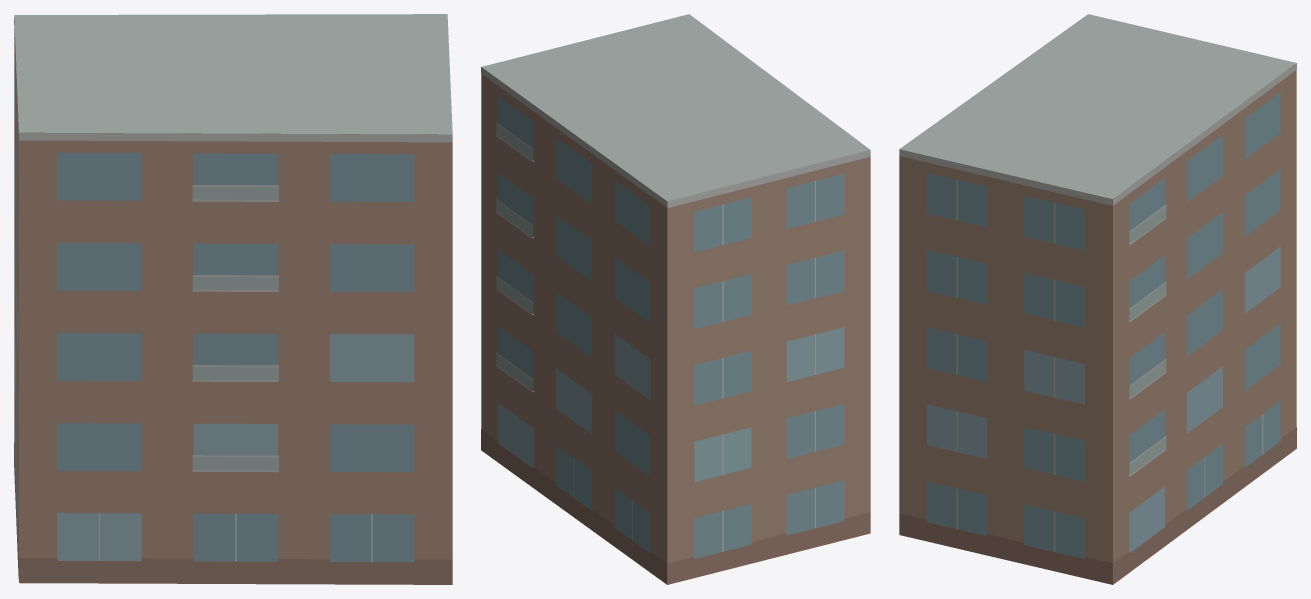
The model's file is survey-upis-32684777.glb.
3 renders of one model, left to right at view 1: azimuth 30°, elevation 25°; view 2: azimuth 150°, elevation 25°; view 3: azimuth 270°, elevation 25°, orthographic. The views are drawn at different scales.
Parts seen in each view (by area): view 1: survey-upis-32684777.tmp; view 2: survey-upis-32684777.tmp; view 3: survey-upis-32684777.tmp.
Boxes of the visible parts, box(x1,y1,x2,y2) form: survey-upis-32684777.tmp: box(14, 14, 452, 584); survey-upis-32684777.tmp: box(481, 14, 870, 584); survey-upis-32684777.tmp: box(899, 14, 1296, 584).
Size of the model in its own units: 14.42 by 14 by 13.08.
